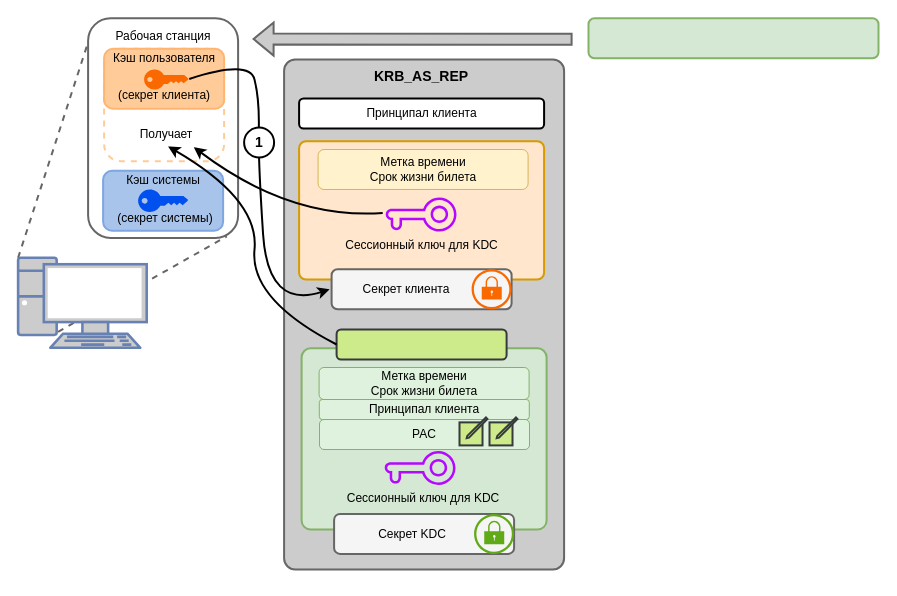
The diagram is 897 pixels wide and 596 high, and some of its shapes have lost their labels. The shapes that lost their labels are listed below. From the top down, each one's centre as x and y in pixels, then its label:
[733,38]: Контроллер домена
[421,344]: TGT билет
